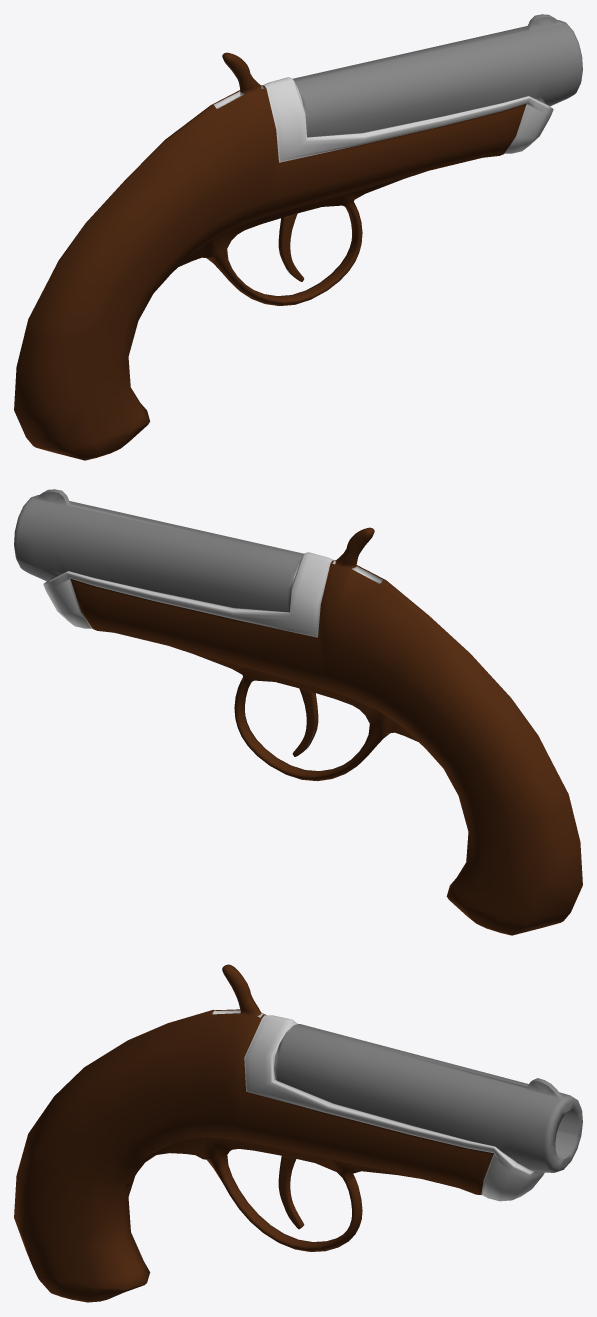
File: gun04.obj
3 renders of one model, top to bottom at view 1: azimuth 30°, elevation 25°; view 2: azimuth 150°, elevation 25°; view 3: azimuth 330°, elevation 25°, orthographic.
Visible parts, largest first — view 1: Old_gun_Plane; view 2: Old_gun_Plane; view 3: Old_gun_Plane.
Boxes of the visible parts, box(x1,y1,x2,y2) form: Old_gun_Plane: box(14, 14, 582, 460); Old_gun_Plane: box(14, 489, 582, 935); Old_gun_Plane: box(14, 964, 582, 1302).
Size of the model in its own units: 4.72 by 2.96 by 0.5358.
